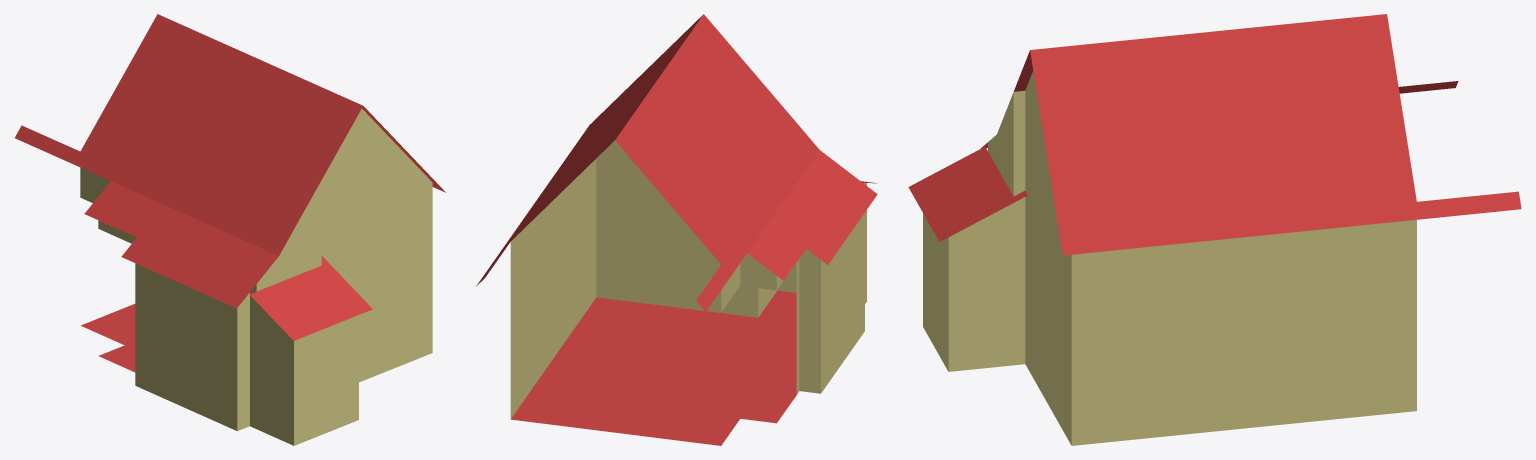
The picture shows the model from 3 angles, left to right: view 1: azimuth 30°, elevation 25°; view 2: azimuth 150°, elevation 25°; view 3: azimuth 270°, elevation 25°; orthographic projection. The views are drawn at different scales.
Size of the model in its own units: 16.24 by 25.37 by 15.72.
